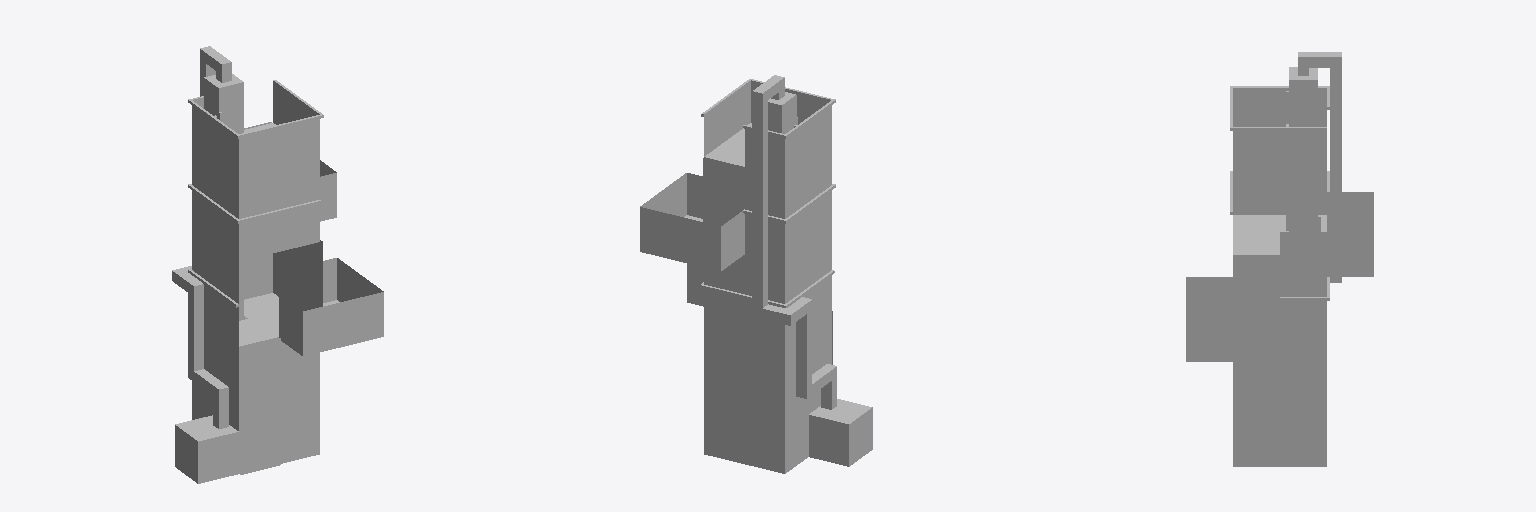
File: distillation_column.obj
3 renders of one model, left to right at view 1: azimuth 30°, elevation 25°; view 2: azimuth 150°, elevation 25°; view 3: azimuth 270°, elevation 25°, orthographic.
Bounding box in the file's own units: 4 × 9 × 4.